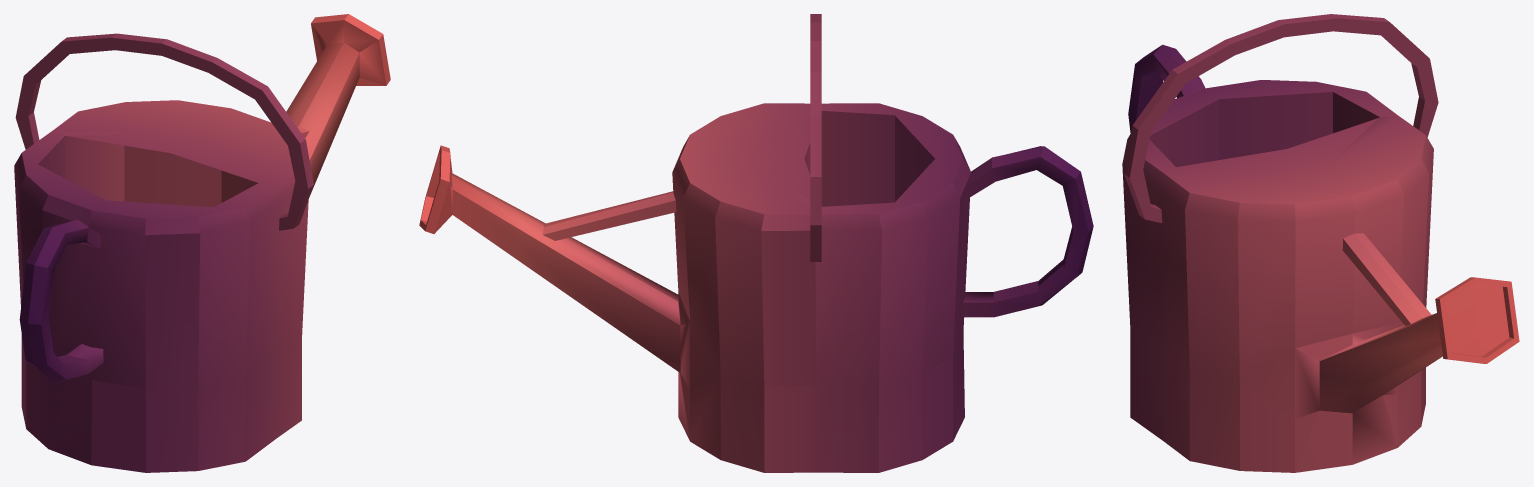
The model's file is PlantPot_53.fbx.
3 renders of one model, left to right at view 1: azimuth 30°, elevation 25°; view 2: azimuth 150°, elevation 25°; view 3: azimuth 270°, elevation 25°, orthographic. The views are drawn at different scales.
Parts seen in each view (by area): view 1: PlantPot_53; view 2: PlantPot_53; view 3: PlantPot_53.
Part boxes in pixels (x1,y1,x2,y2): PlantPot_53: [14, 14, 390, 472]; PlantPot_53: [419, 14, 1093, 472]; PlantPot_53: [1122, 14, 1519, 472].
Bounding box in the file's own units: 32.09 × 22.18 × 20.45.
